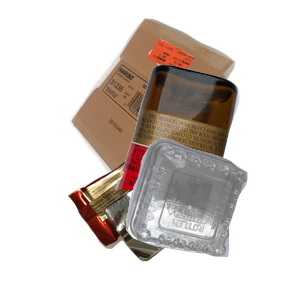cardboard: (67, 16, 295, 196)
glass: (113, 62, 300, 242)
plastic: (123, 136, 300, 300)
trash: (65, 148, 258, 300)
